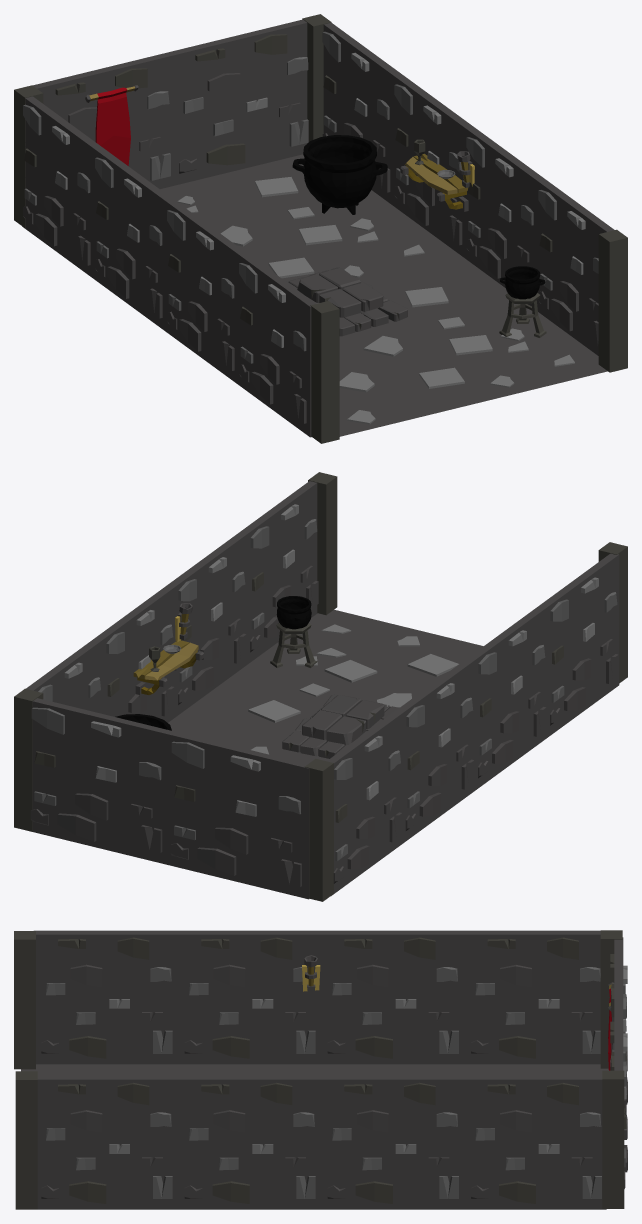
The model's file is room3.glb.
3 views of the same model, one above another, from view 1: azimuth 30°, elevation 25°; view 2: azimuth 150°, elevation 25°; view 3: azimuth 270°, elevation 25° (orthographic).
Visible parts, largest first — view 1: Big_Flat_Floor.002, Flat_Wall.005, Flat_Wall.006, Flat_Wall.011, Flat_Wall.007, Big_Cauldron, Stone_Wall_Corner.008, Stone_Wall_Corner.009, Stone_Pedestal, Banner.003, Stone_Wall_Corner.010, Stone_Wall_Corner.011 (+3 smaller); view 2: Flat_Wall.005, Flat_Wall.006, Big_Flat_Floor.002, Flat_Wall.007, Flat_Wall.011, Stone_Pedestal, Stone_Wall_Corner.011, Stone_Wall_Corner.008, Stone_Wall_Corner.010, Shelf, Stone_Wall_Corner.009, Stand (+1 smaller); view 3: Flat_Wall.006, Flat_Wall.005, Big_Flat_Floor.002, Stone_Wall_Corner.008, Stone_Wall_Corner.010, Stone_Wall_Corner.009, Stone_Wall_Corner.011, Flat_Wall.011, Flat_Wall.007, Torch.010.
Boxes of the visible parts, x1,y1,x2,y2 form: Big_Flat_Floor.002: [160, 154, 607, 436]; Flat_Wall.005: [22, 96, 315, 437]; Flat_Wall.006: [322, 22, 614, 355]; Flat_Wall.011: [167, 19, 308, 186]; Flat_Wall.007: [32, 52, 173, 188]; Big_Cauldron: [292, 135, 387, 214]; Stone_Wall_Corner.008: [598, 229, 627, 372]; Stone_Wall_Corner.009: [310, 301, 339, 443]; Stone_Pedestal: [286, 267, 407, 336]; Banner.003: [85, 85, 138, 165]; Stone_Wall_Corner.010: [302, 14, 331, 143]; Stone_Wall_Corner.011: [14, 85, 43, 227]; Flat_Wall.005: [327, 553, 619, 895]; Flat_Wall.006: [26, 481, 318, 722]; Big_Flat_Floor.002: [168, 609, 483, 763]; Flat_Wall.007: [166, 731, 309, 899]; Flat_Wall.011: [30, 698, 172, 864]; Stone_Pedestal: [282, 694, 399, 758]; Stone_Wall_Corner.011: [305, 758, 333, 901]; Stone_Wall_Corner.008: [308, 472, 337, 615]; Stone_Wall_Corner.010: [14, 688, 43, 831]; Shelf: [133, 640, 203, 696]; Stone_Wall_Corner.009: [598, 542, 627, 683]; Stand: [270, 623, 317, 667]; Flat_Wall.006: [37, 1076, 606, 1209]; Flat_Wall.005: [34, 930, 600, 1064]; Big_Flat_Floor.002: [21, 1064, 608, 1075]; Stone_Wall_Corner.008: [15, 1071, 37, 1209]; Stone_Wall_Corner.010: [602, 1070, 624, 1208]; Stone_Wall_Corner.009: [14, 931, 35, 1069]; Stone_Wall_Corner.011: [600, 930, 622, 1068]; Flat_Wall.011: [610, 1005, 627, 1188]; Flat_Wall.007: [610, 937, 627, 1104]; Torch.010: [302, 955, 320, 991].
Bounding box in the file's own units: 20.13 × 8.15 × 34.16.
1 material, 1 textured.
